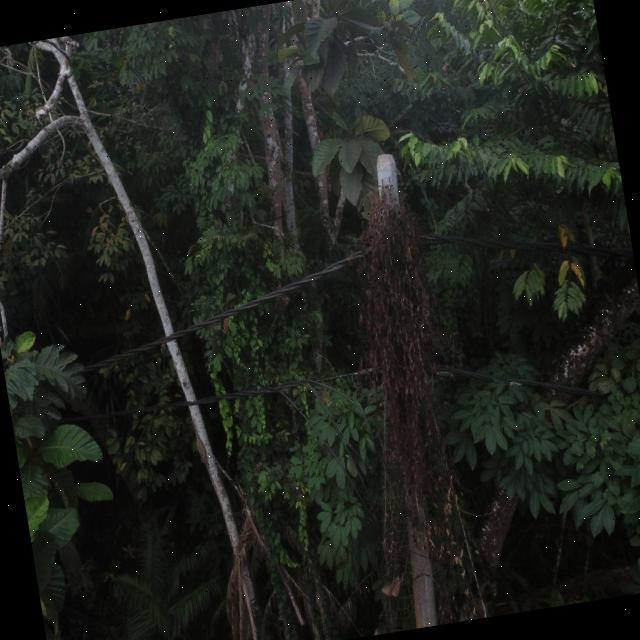critical vegetation: (314, 180, 489, 629)
